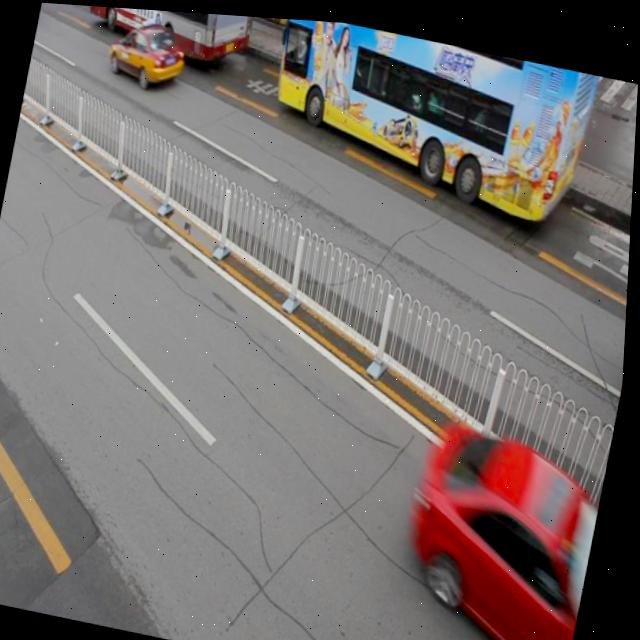car: (396, 408, 614, 640), (107, 11, 191, 92)
van: (258, 14, 601, 219), (80, 4, 255, 67)
